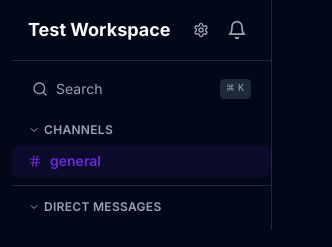
Test case: ChannelSidebar › collapses the Channels section when header is clicked
The image size is (332, 247).
Expected: the text "general" is shown, [50, 151, 101, 171]
# Click the "Channels" section toggle
Click the button "Channels". click: (70, 130)
box: [28, 122, 113, 138]
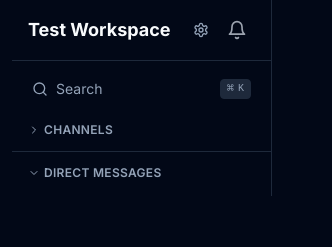
Expected: the button "general" is gone
